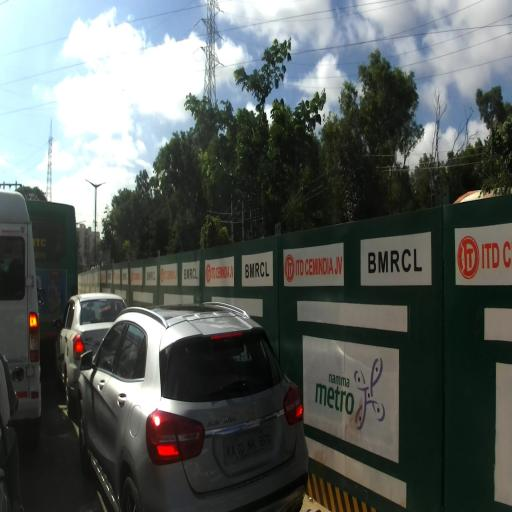street_light_0: (85, 179, 97, 189), (95, 182, 107, 190), (76, 220, 86, 226)
